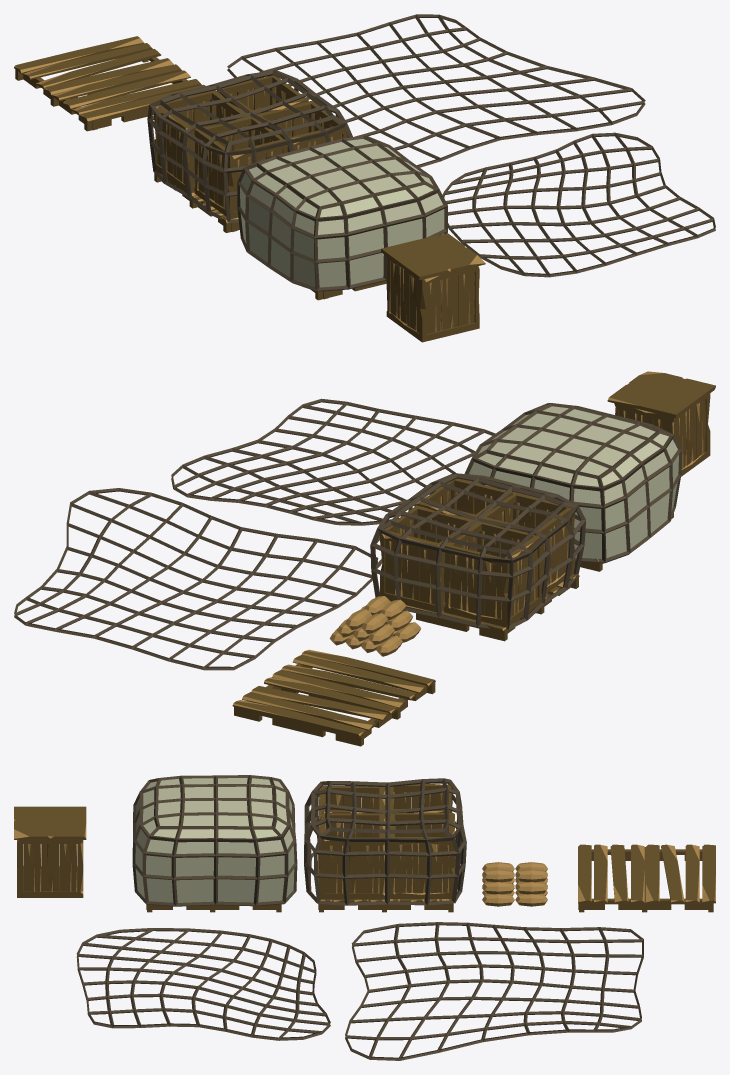
Rendered from DocksCollection.fbx.
3 renders of one model, top to bottom at view 1: azimuth 30°, elevation 25°; view 2: azimuth 150°, elevation 25°; view 3: azimuth 270°, elevation 25°, orthographic. The views are drawn at different scales.
Visible parts, largest first — view 1: SealedNets, NettedCrates, CargoNet2, CargoNet1, WoodPallet, Crate, Crate_Lid; view 2: NettedCrates, SealedNets, CargoNet2, CargoNet1, WoodPallet, BagPile, Crate_Lid, Crate; view 3: SealedNets, NettedCrates, CargoNet2, CargoNet1, WoodPallet, Crate, BagPile, Crate_Lid.
Boxes of the visible parts, x1,y1,x2,y2 form: SealedNets: (237, 135, 447, 300); NettedCrates: (147, 70, 352, 232); CargoNet2: (227, 14, 645, 167); CargoNet1: (443, 132, 715, 277); WoodPallet: (14, 36, 205, 131); Crate: (386, 256, 479, 342); Crate_Lid: (381, 233, 485, 279); NettedCrates: (370, 473, 585, 641); SealedNets: (464, 403, 681, 571); CargoNet2: (14, 488, 378, 670); CargoNet1: (171, 398, 495, 525); WoodPallet: (232, 649, 435, 746); BagPile: (329, 596, 421, 656); Crate_Lid: (607, 371, 715, 418); Crate: (614, 393, 710, 476); SealedNets: (132, 775, 297, 912); NettedCrates: (304, 778, 466, 912); CargoNet2: (345, 922, 643, 1060); CargoNet1: (76, 928, 330, 1040); WoodPallet: (578, 844, 715, 912); Crate: (17, 840, 83, 897); BagPile: (482, 862, 547, 906); Crate_Lid: (14, 806, 86, 839).
Size of the model in its own units: 1510 by 286 by 2116.
